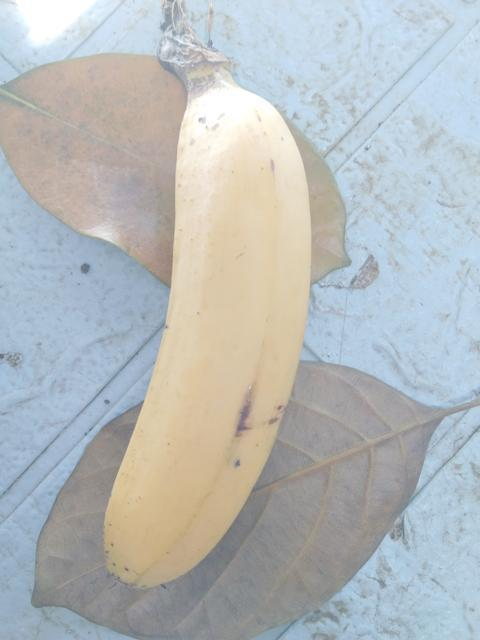freshripe: (67, 70, 380, 620)
